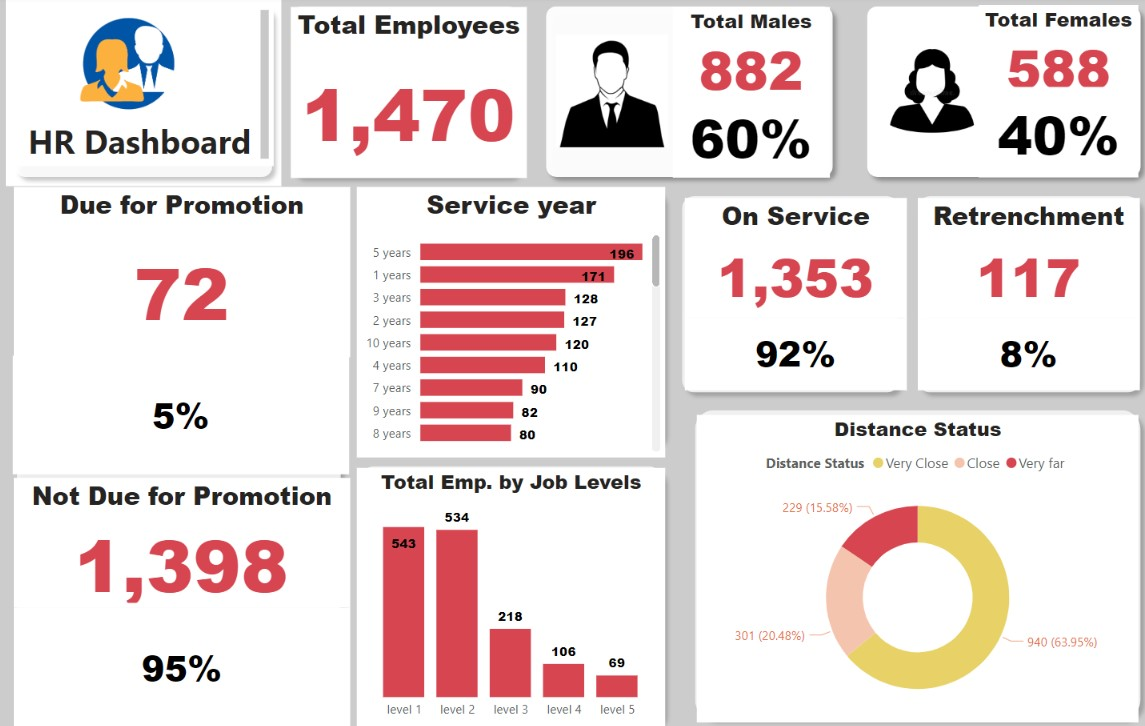

What the dashboard file says about the page in this screenshot:
{"tool":"powerbi","page":{"name":"home","canvas":[1280,720],"ordinal":0},"visuals":[{"type":"shape","box":[167.6,0,267.8,184],"z":0},{"type":"shape","box":[435.4,0,239,184],"z":1000},{"type":"shape","box":[683.9,0,296.7,184],"z":2000},{"type":"shape","box":[995.7,0,284.3,184],"z":3000},{"type":"shape","box":[168.8,176.1,332.9,543.9],"z":4000},{"type":"shape","box":[501.7,176.1,314.8,271.4],"z":5000},{"type":"shape","box":[501.7,447.4,314.8,272.6],"z":6000},{"type":"shape","box":[816.5,184.5,229.1,208.6],"z":7000},{"type":"shape","box":[1045.6,184.5,234,208.6],"z":8000},{"type":"shape","box":[828.5,393.2,451.1,318.4],"z":9000},{"type":"textbox","box":[175.1,7.8,252.9,156.6],"z":10000},{"type":"card","title":"Total Employees","fields":{"Values":["All measures.Total Emp"]},"box":[445,9.6,229.4,166.2],"z":11000},{"type":"card","title":"Total Males","fields":{"Values":["All measures.Male"]},"box":[815.8,9.6,152.4,92],"z":12000},{"type":"card","title":"Total Females","fields":{"Values":["All measures.Female"]},"box":[1113.8,8.2,155.2,93.4],"z":13000},{"type":"card","title":"Total Males","fields":{"Values":["All measures.% male"]},"box":[815.8,93.4,152.4,82.4],"z":14000},{"type":"card","title":"Total Females","fields":{"Values":["All measures.% female"]},"box":[1113.8,87.9,155.2,87.9],"z":15000},{"type":"image","box":[697.7,8.2,119.5,167.6],"z":16000},{"type":"image","box":[1008.1,8.2,120.9,167.6],"z":17000},{"type":"card","title":"Not Due for Promotion","fields":{"Values":["All measures.Not Due for Promotion"]},"box":[174.9,467.9,326.8,126.6],"z":18000},{"type":"card","title":"Due for Promotion","fields":{"Values":["All measures.Due for Promotion"]},"box":[174.9,184.5,326.8,165.2],"z":19000},{"type":"card","fields":{"Values":["All measures.%Due for Promotion"]},"box":[174.4,348.8,326.9,115.4],"z":20000},{"type":"card","fields":{"Values":["All measures.% Not Due for Promotion"]},"box":[174.9,594.6,326.8,117],"z":21000},{"type":"barChart","title":"Service year","fields":{"Y":["All measures.Total Emp"],"Category":["HR Analytics Data.Service year"]},"box":[508.9,184.5,300.3,262.9],"z":22000},{"type":"actionButton","box":[0,0,100,40],"z":23000},{"type":"columnChart","title":"Total Emp. by Job Levels","fields":{"Category":["HR Analytics Data.Job Levels"],"Y":["All measures.Total Emp"]},"box":[508.9,458.3,300.3,253.3],"z":24000},{"type":"card","title":"On Service","fields":{"Values":["All measures.On Service"]},"box":[828.2,195,215.6,116.7],"z":25000},{"type":"card","title":"Total Females","fields":{"Values":["All measures.% On Service"]},"box":[828.2,311.8,215.6,70],"z":26000},{"type":"card","title":"Retrenchment","fields":{"Values":["All measures.Retreanchment"]},"box":[1054.8,195,215.6,116.7],"z":27000},{"type":"card","title":"Total Females","fields":{"Values":["All measures.% Retreanchment"]},"box":[1054.8,311.8,215.6,70],"z":28000},{"type":"donutChart","title":" Distance Status","fields":{"Category":["HR Analytics Data.Distance Status"],"Y":["All measures.Total Emp"]},"box":[839.1,406.5,429.9,299.4],"z":29000},{"type":"image","box":[174.1,7.8,232.5,114.8],"z":30000},{"type":"shape","box":[0,0,156.1,720.5],"z":31000}]}

Visuals, with their boxes on the page's 1280x720 design canvas (x1, y1, x2, y2). These are canvas units, not pixel positions in the 1145x726 screenshot, which may show the page scaled, cropped or inside an application window:
shape: <region>168, 0, 435, 184</region>
shape: <region>435, 0, 674, 184</region>
shape: <region>684, 0, 981, 184</region>
shape: <region>996, 0, 1280, 184</region>
shape: <region>169, 176, 502, 720</region>
shape: <region>502, 176, 816, 448</region>
shape: <region>502, 447, 816, 720</region>
shape: <region>816, 184, 1046, 393</region>
shape: <region>1046, 184, 1280, 393</region>
shape: <region>828, 393, 1280, 712</region>
textbox: <region>175, 8, 428, 164</region>
"Total Employees" card: <region>445, 10, 674, 176</region>
"Total Males" card: <region>816, 10, 968, 102</region>
"Total Females" card: <region>1114, 8, 1269, 102</region>
"Total Males" card: <region>816, 93, 968, 176</region>
"Total Females" card: <region>1114, 88, 1269, 176</region>
image: <region>698, 8, 817, 176</region>
image: <region>1008, 8, 1129, 176</region>
"Not Due for Promotion" card: <region>175, 468, 502, 594</region>
"Due for Promotion" card: <region>175, 184, 502, 350</region>
card - All measures.%Due for Promotion: <region>174, 349, 501, 464</region>
card - All measures.% Not Due for Promotion: <region>175, 595, 502, 712</region>
"Service year" barChart: <region>509, 184, 809, 447</region>
actionButton: <region>0, 0, 100, 40</region>
"Total Emp. by Job Levels" columnChart: <region>509, 458, 809, 712</region>
"On Service" card: <region>828, 195, 1044, 312</region>
"Total Females" card: <region>828, 312, 1044, 382</region>
"Retrenchment" card: <region>1055, 195, 1270, 312</region>
"Total Females" card: <region>1055, 312, 1270, 382</region>
" Distance Status" donutChart: <region>839, 406, 1269, 706</region>
image: <region>174, 8, 407, 123</region>
shape: <region>0, 0, 156, 720</region>
